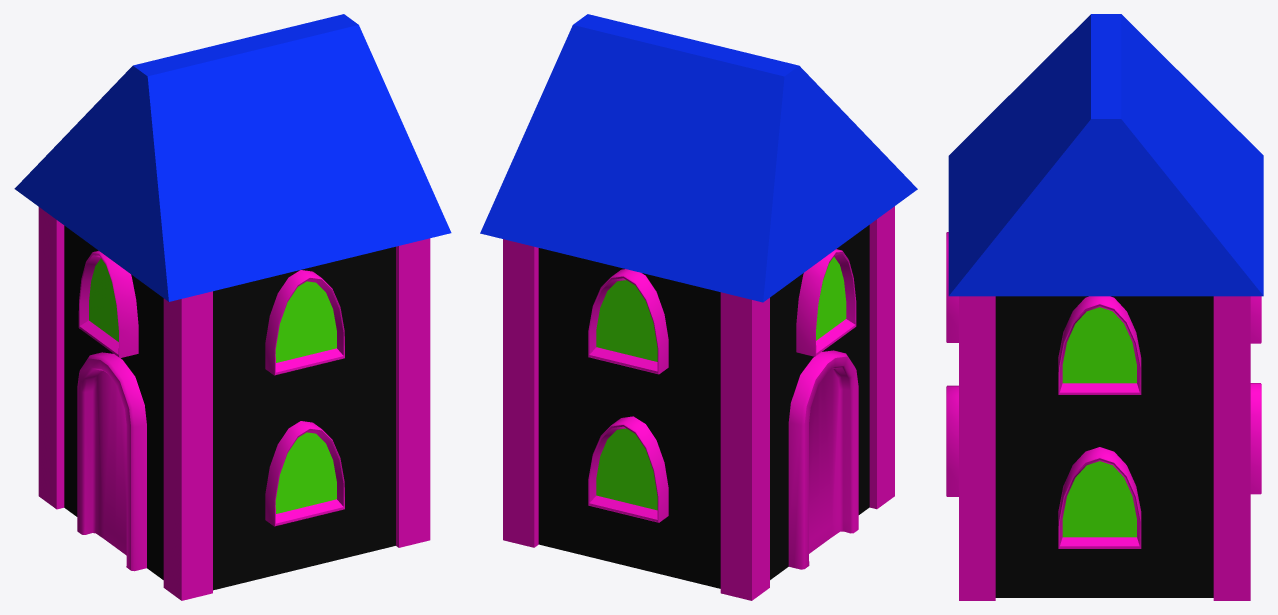
Rendered from Maison_02.FBX.
The picture shows the model from 3 angles, left to right: view 1: azimuth 30°, elevation 25°; view 2: azimuth 150°, elevation 25°; view 3: azimuth 270°, elevation 25°; orthographic projection.
Visible parts, largest first — view 1: Maison_02; view 2: Maison_02; view 3: Maison_02.
Part boxes in pixels (left/top/right/bottom): Maison_02: left=14, top=14, right=451, bottom=600; Maison_02: left=480, top=14, right=917, bottom=600; Maison_02: left=946, top=14, right=1263, bottom=600.
Bounding box in the file's own units: 72.26 × 115 × 68.98.
